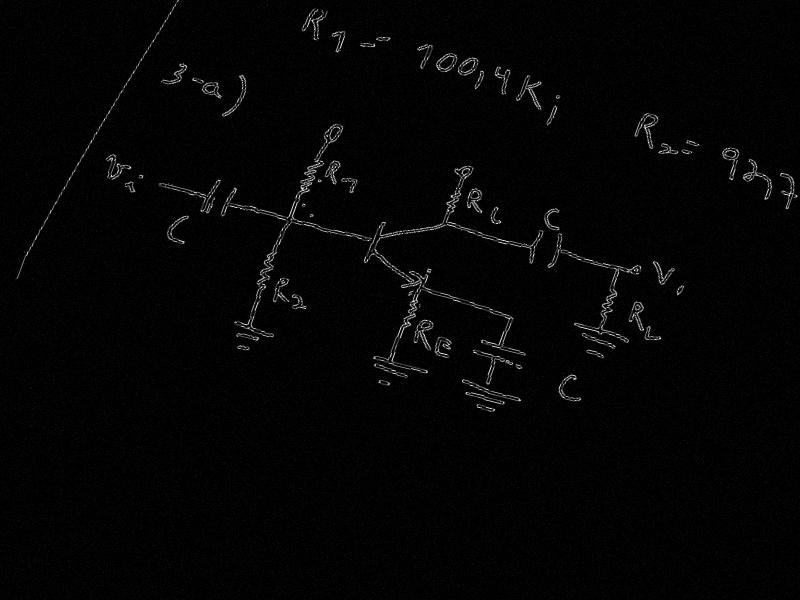-: (357, 38, 378, 50), (684, 137, 702, 148), (375, 33, 392, 44), (190, 76, 206, 85), (680, 147, 694, 157)
0: (432, 49, 460, 76), (454, 52, 482, 79)
1: (409, 39, 437, 72), (324, 27, 350, 55), (335, 172, 361, 197)
2: (285, 291, 313, 314), (656, 141, 683, 159)
3: (734, 155, 783, 202), (156, 57, 189, 90)
4: (486, 64, 516, 97)
7: (768, 171, 800, 211)
9: (712, 144, 745, 183)
V: (94, 151, 136, 186), (643, 258, 677, 287)
k: (513, 73, 553, 111), (797, 185, 800, 229)
